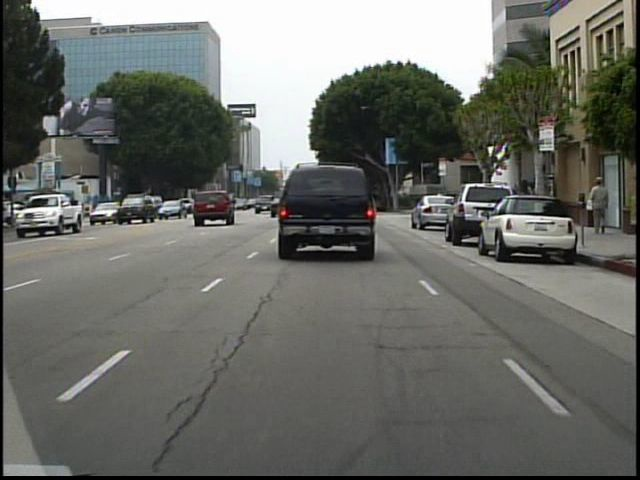person: (585, 173, 612, 238), (475, 177, 494, 220), (37, 199, 53, 226)
